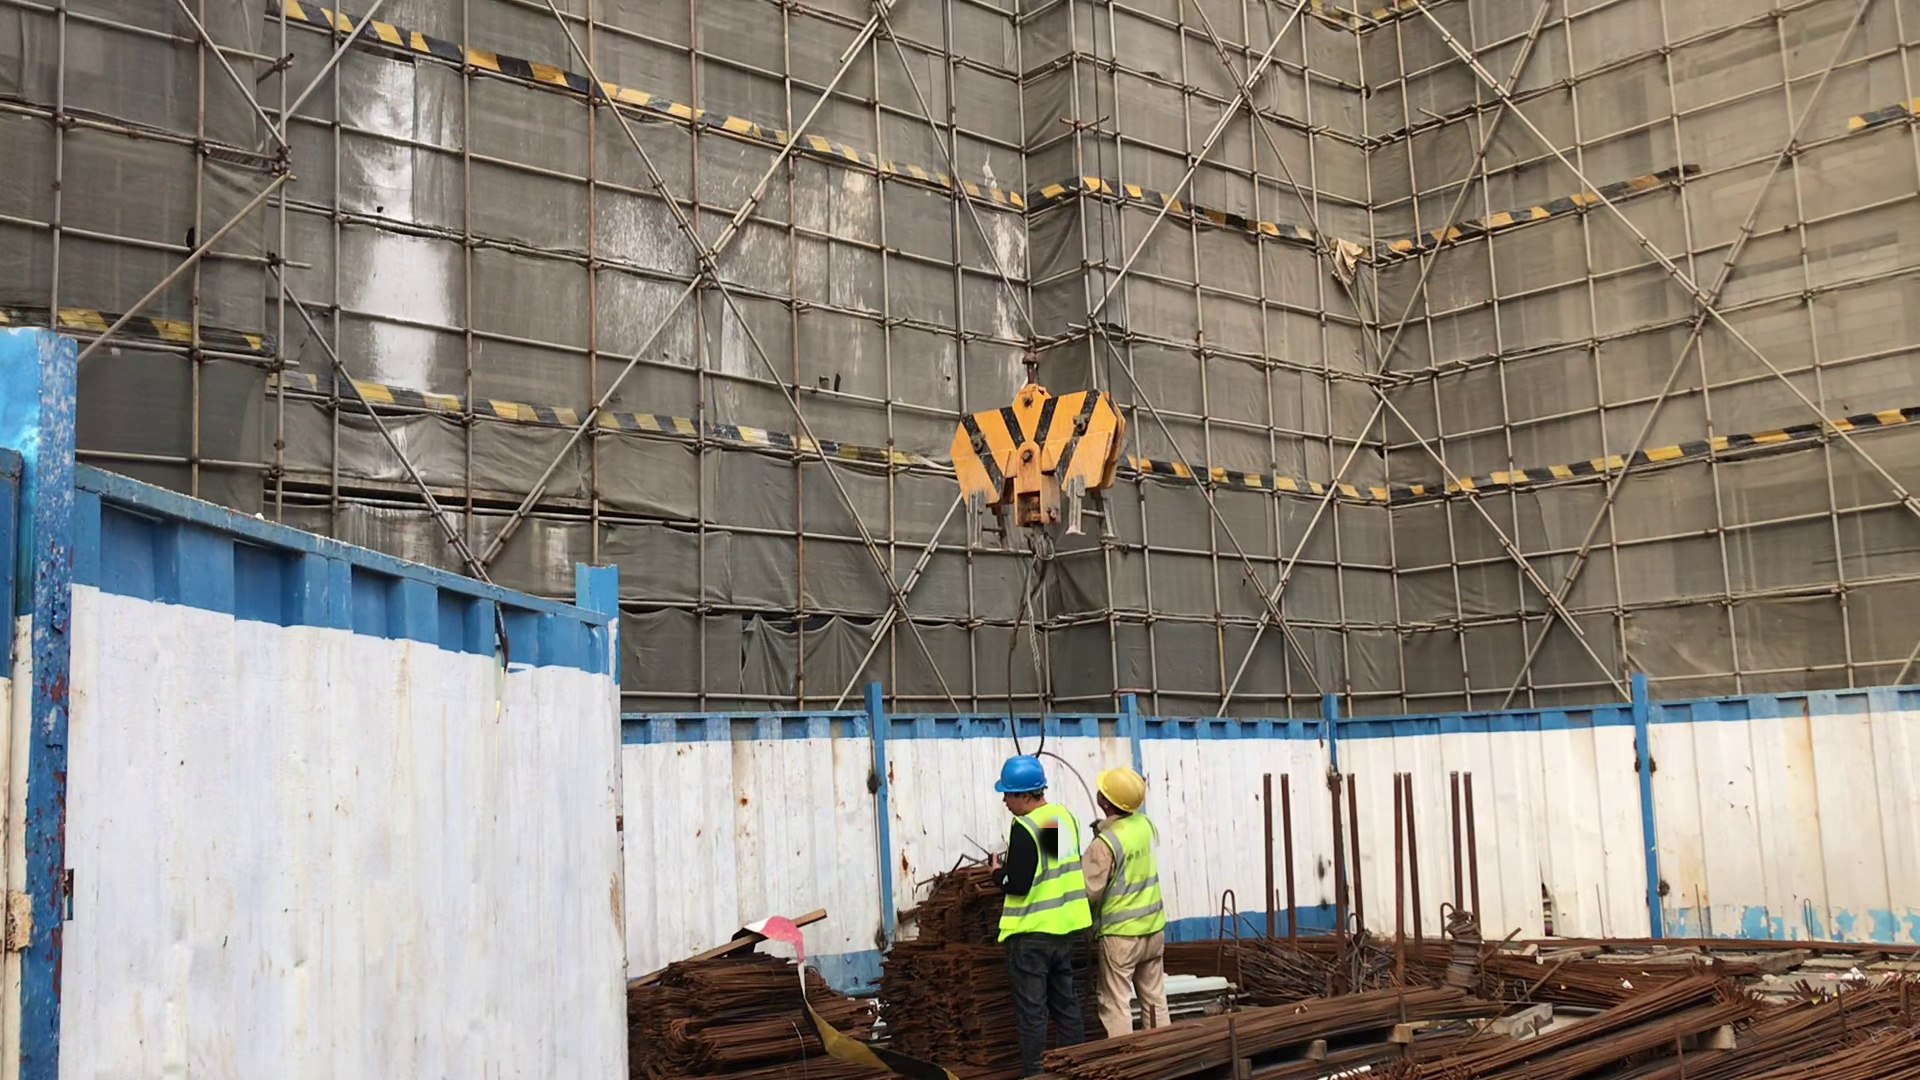helmet: (993, 756, 1050, 795), (1100, 766, 1147, 812)
hook: (952, 376, 1124, 576)
person: (984, 755, 1096, 1044), (1095, 766, 1172, 1023)
rebar: (1040, 983, 1508, 1080), (1404, 970, 1756, 1080), (1641, 987, 1892, 1080)
vest: (992, 803, 1094, 943), (1098, 816, 1168, 938)
